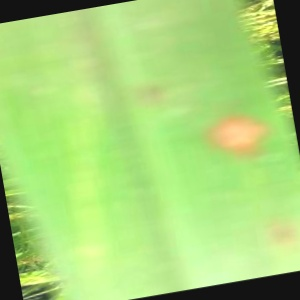Brown_Spot: (201, 99, 277, 184)
